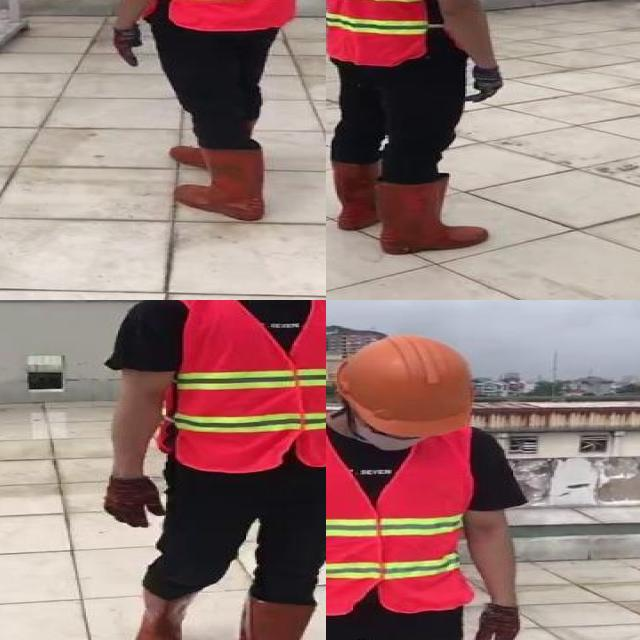boots: (374, 175, 490, 255), (172, 141, 266, 221), (229, 595, 326, 640), (327, 161, 379, 234), (132, 586, 198, 640)
hand_glove: (106, 476, 166, 528), (468, 65, 508, 108), (477, 604, 520, 640), (112, 25, 146, 66)
head_helmet: (330, 334, 476, 434)
person: (86, 300, 326, 640), (326, 333, 533, 640), (104, 0, 326, 230), (326, 0, 513, 259)
vest: (155, 300, 326, 466), (326, 418, 470, 613), (326, 0, 447, 67)
